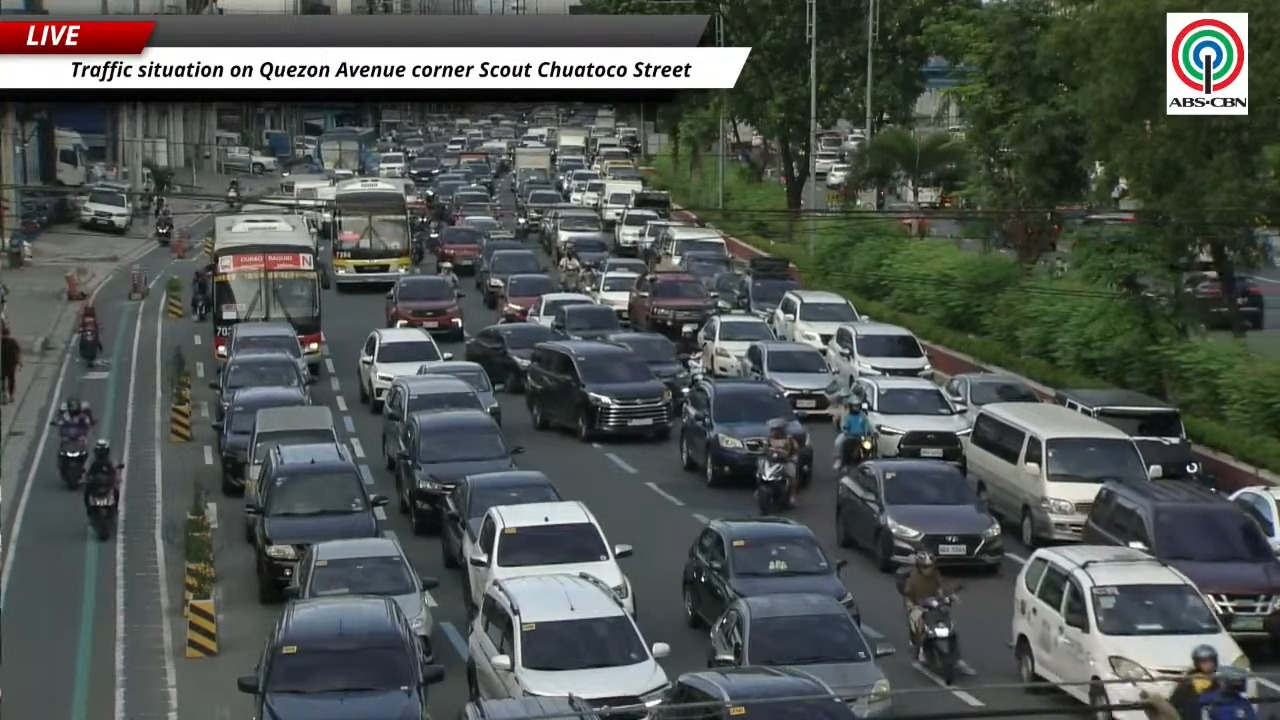bus: (210, 213, 328, 373), (328, 178, 411, 289), (317, 127, 376, 174)
car: (1011, 546, 1249, 707), (1081, 480, 1279, 642), (466, 573, 669, 719), (237, 596, 444, 719), (708, 593, 893, 717), (245, 443, 386, 603), (682, 516, 860, 627), (463, 500, 633, 613), (835, 459, 1003, 571), (286, 537, 437, 661), (394, 408, 523, 533), (678, 376, 813, 486), (525, 340, 672, 441), (1053, 389, 1202, 479), (441, 470, 563, 568), (649, 666, 861, 719), (852, 376, 971, 464), (213, 386, 308, 495), (381, 374, 485, 469), (242, 405, 338, 497), (357, 328, 452, 412), (739, 340, 839, 414), (209, 351, 313, 420), (826, 322, 932, 386), (464, 322, 557, 392), (602, 332, 690, 404), (769, 289, 863, 349), (628, 271, 716, 334), (215, 321, 319, 374), (712, 256, 800, 317), (418, 360, 500, 424), (386, 275, 463, 340), (1182, 271, 1265, 330), (697, 314, 775, 376), (943, 372, 1041, 421), (482, 250, 544, 308), (537, 205, 602, 260), (540, 206, 603, 260), (1230, 485, 1279, 552), (459, 696, 600, 719), (655, 227, 728, 269), (499, 273, 558, 321), (551, 303, 623, 341), (639, 219, 690, 272), (473, 239, 526, 289), (78, 186, 132, 233), (517, 181, 562, 235), (589, 271, 638, 318), (526, 293, 593, 327), (614, 207, 659, 256), (678, 253, 732, 288), (558, 235, 609, 269), (408, 156, 440, 185), (458, 215, 501, 234), (814, 150, 842, 179), (601, 257, 647, 274), (578, 178, 604, 208), (826, 163, 852, 188)
motorcycle: (917, 586, 962, 684), (86, 464, 124, 542), (755, 450, 789, 514), (57, 425, 87, 489), (837, 436, 876, 475), (77, 328, 100, 365), (683, 352, 704, 381), (411, 231, 426, 264), (193, 293, 208, 321), (154, 223, 172, 244), (226, 189, 240, 209)
truck: (53, 128, 87, 186), (317, 135, 364, 173), (512, 147, 552, 173), (556, 127, 588, 156)
